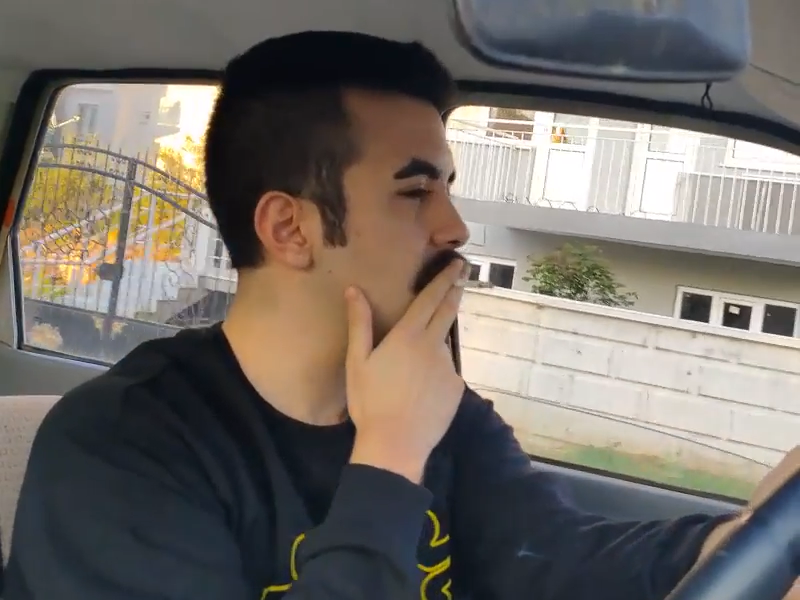sigara: (443, 276, 499, 294)
